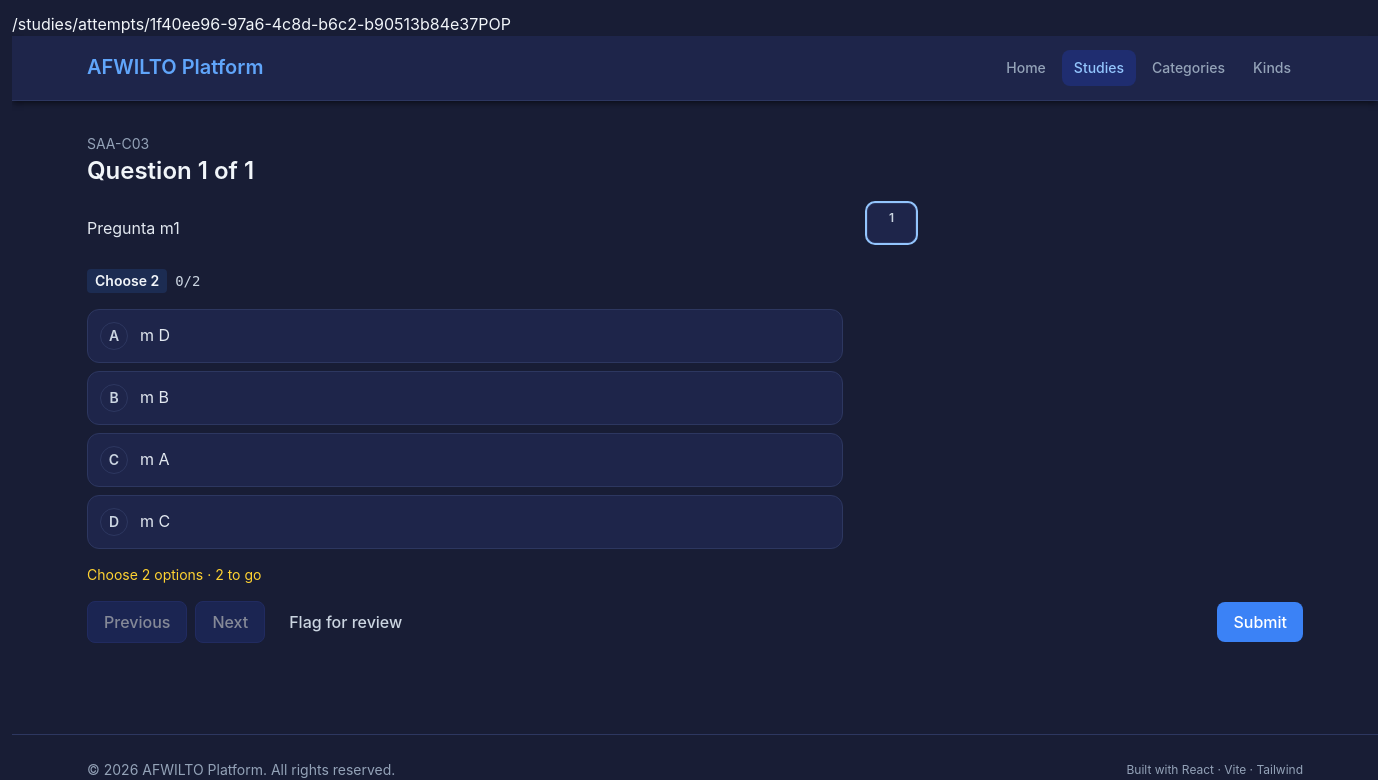
Test: RunnerPage: review mode (feedback each) (S09-5) › a multi question reveals only once N labels are chosen: the first click is held back
Check: the heading "Question 1 of 1" is shown, box [87,154,254,187]
Click the checkbox labelled "A m D" at {"x": 465, "y": 336}, box [87,309,843,363]
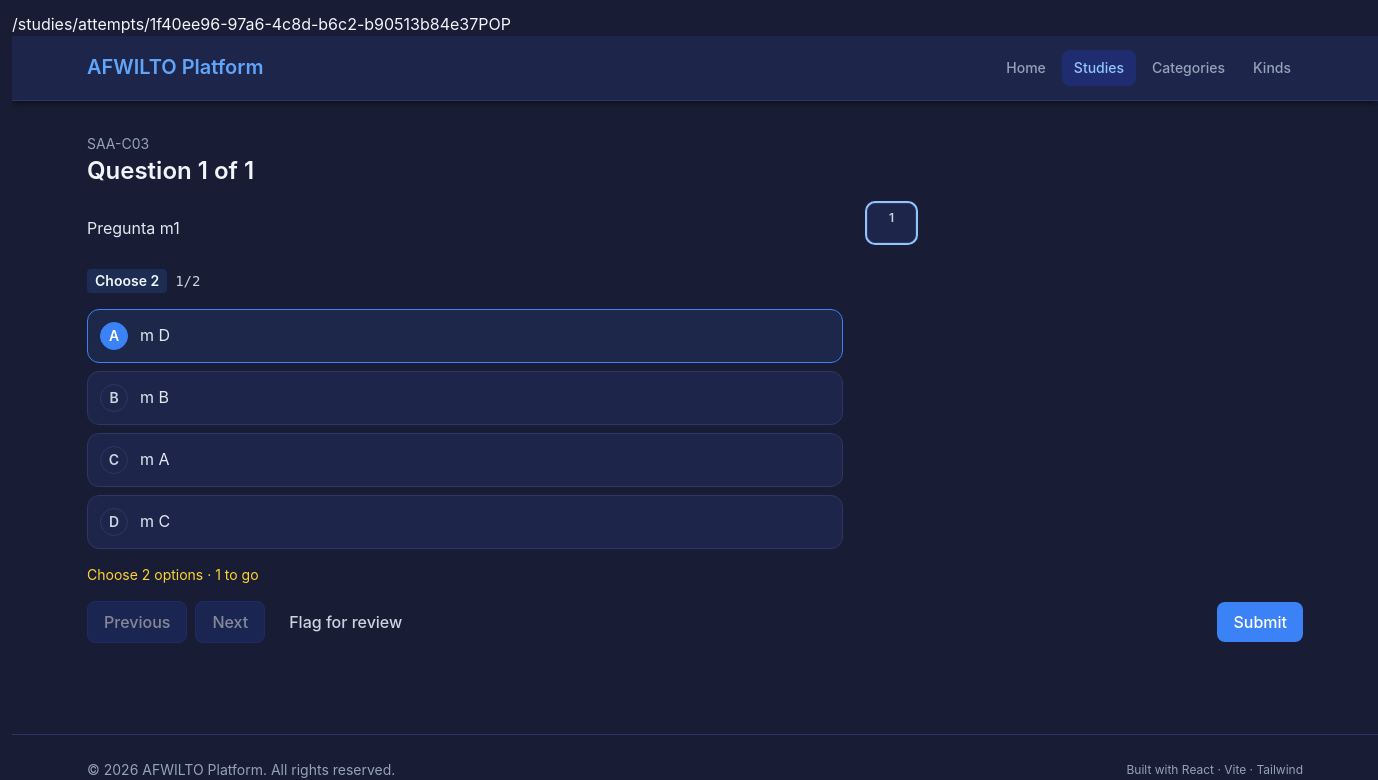
Check: the text "Explanation" is not shown
Click the checkbox labelled "B m B" at {"x": 465, "y": 398}, box [87,371,843,425]
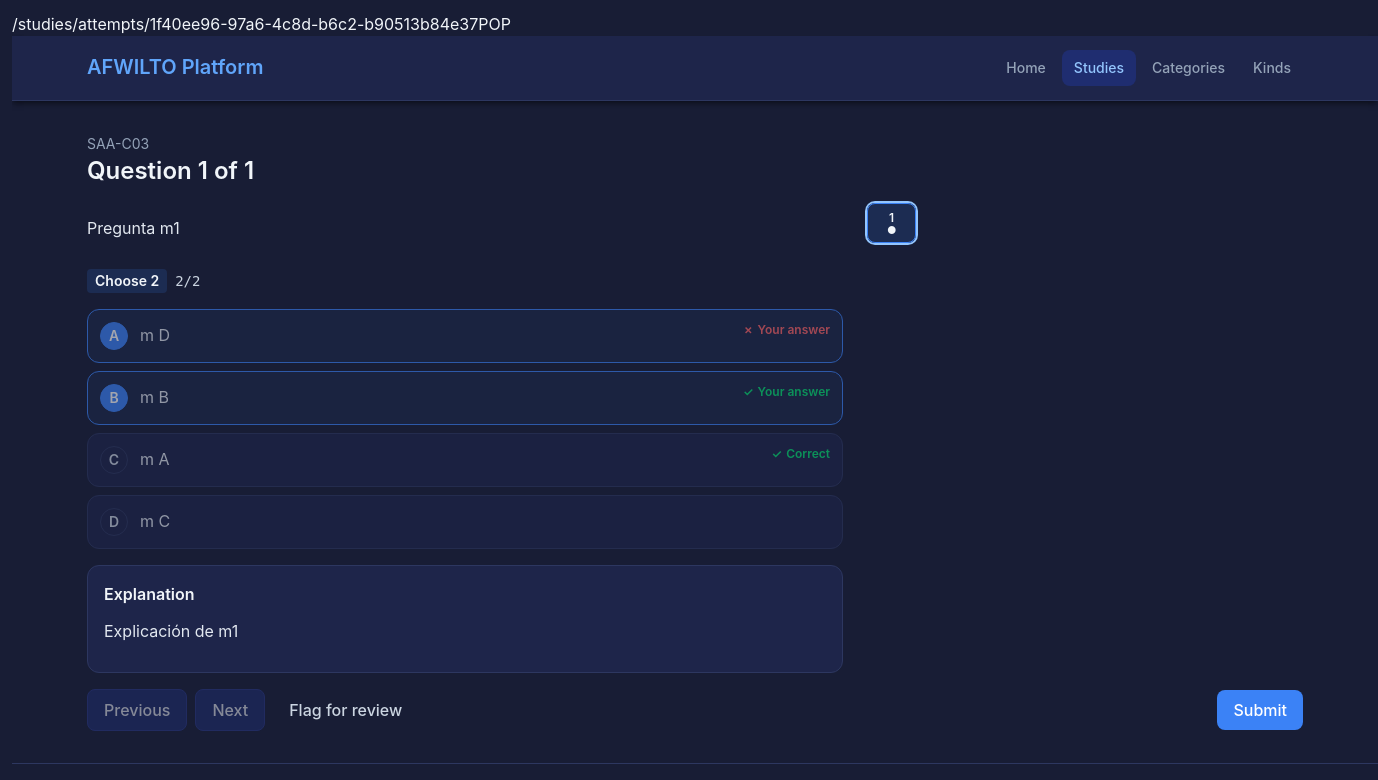
Check: the heading "Explanation" is shown, box [104,584,194,604]
